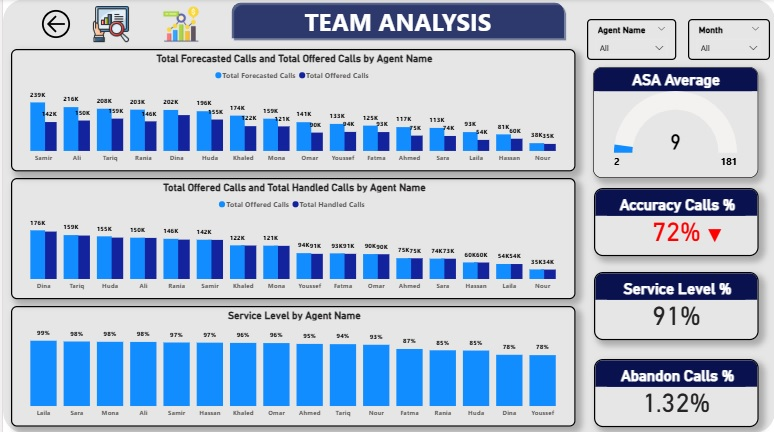

This screenshot's page, from the dashboard's own definition file:
{"tool":"powerbi","page":{"name":"Team Analysis","canvas":[1280,720],"ordinal":2},"visuals":[{"type":"shape","box":[0,0,1280.2,720],"z":0},{"type":"shape","box":[372.7,0,563.1,71.4],"z":1000},{"type":"clusteredColumnChart","fields":{"Category":["Agent.Agent Name"],"Y":["Apr.Total Forecasted Calls","Project.Total Offered Calls"]},"box":[12.7,82.5,935.8,203],"z":2000},{"type":"columnChart","fields":{"Category":["Agent.Agent Name"],"Y":["Project.Service Level"]},"box":[12.7,509.1,935.8,199.9],"z":3000},{"type":"clusteredColumnChart","fields":{"Category":["Agent.Agent Name"],"Y":["Project.Total Offered Calls","Project.Total Handled Calls"]},"box":[12.7,296.6,935.8,201.4],"z":4000},{"type":"card","title":"Accuracy Calls %","fields":{"Values":["Project.Accuracy Calls %"]},"box":[980.2,314.1,272.8,112.6],"z":5000},{"type":"card","fields":{"Values":["Project.Accuracy Calls % Arrow"]},"box":[1157.9,371.2,46,38.1],"z":6000},{"type":"card","title":"Service Level %","fields":{"Values":["Project.Service Level"]},"box":[980.2,452,272.8,112.6],"z":7000},{"type":"card","title":"Abandon Calls %","fields":{"Values":["Project.Abandon Rate %"]},"box":[980.2,596.4,272.8,112.6],"z":8000},{"type":"gauge","title":"ASA Average","fields":{"Y":["Append1.Avgs ASA"],"MaxValue":["Append1.MAX ASA"],"MinValue":["Append1.Mini ASA"]},"box":[978.2,112.7,273.6,184],"z":9000},{"type":"slicer","fields":{"Values":["Agent.Agent Name"]},"box":[968.3,33.2,147.6,68],"z":10000},{"type":"slicer","fields":{"Values":["Calendar.Date.Variation.Date Hierarchy.Month"]},"box":[1135.8,33.2,136,68],"z":11000},{"type":"image","box":[237.1,11.6,116.1,59.7],"z":11001},{"type":"image","box":[121,11.6,116.1,59.7],"z":11002},{"type":"actionButton","box":[58,11.6,74.6,59.7],"z":11003}]}

Visuals, with their boxes in screenshot pixels (x1, y1, x2, y2), scaled from the page's 1280x720 canvas onto the 774x432 screenshot:
shape: <bbox>0, 0, 773, 431</bbox>
shape: <bbox>225, 0, 566, 43</bbox>
clusteredColumnChart - Agent.Agent Name x Apr.Total Forecasted Calls: <bbox>8, 50, 574, 171</bbox>
columnChart - Agent.Agent Name x Project.Service Level: <bbox>8, 305, 574, 425</bbox>
clusteredColumnChart - Agent.Agent Name x Project.Total Offered Calls: <bbox>8, 178, 574, 299</bbox>
"Accuracy Calls %" card: <bbox>593, 188, 758, 256</bbox>
card - Project.Accuracy Calls % Arrow: <bbox>700, 223, 728, 246</bbox>
"Service Level %" card: <bbox>593, 271, 758, 339</bbox>
"Abandon Calls %" card: <bbox>593, 358, 758, 425</bbox>
"ASA Average" gauge: <bbox>592, 68, 757, 178</bbox>
slicer - Agent.Agent Name: <bbox>586, 20, 675, 61</bbox>
slicer - Calendar.Date.Variation.Date Hierarchy.Month: <bbox>687, 20, 769, 61</bbox>
image: <bbox>143, 7, 214, 43</bbox>
image: <bbox>73, 7, 143, 43</bbox>
actionButton: <bbox>35, 7, 80, 43</bbox>
